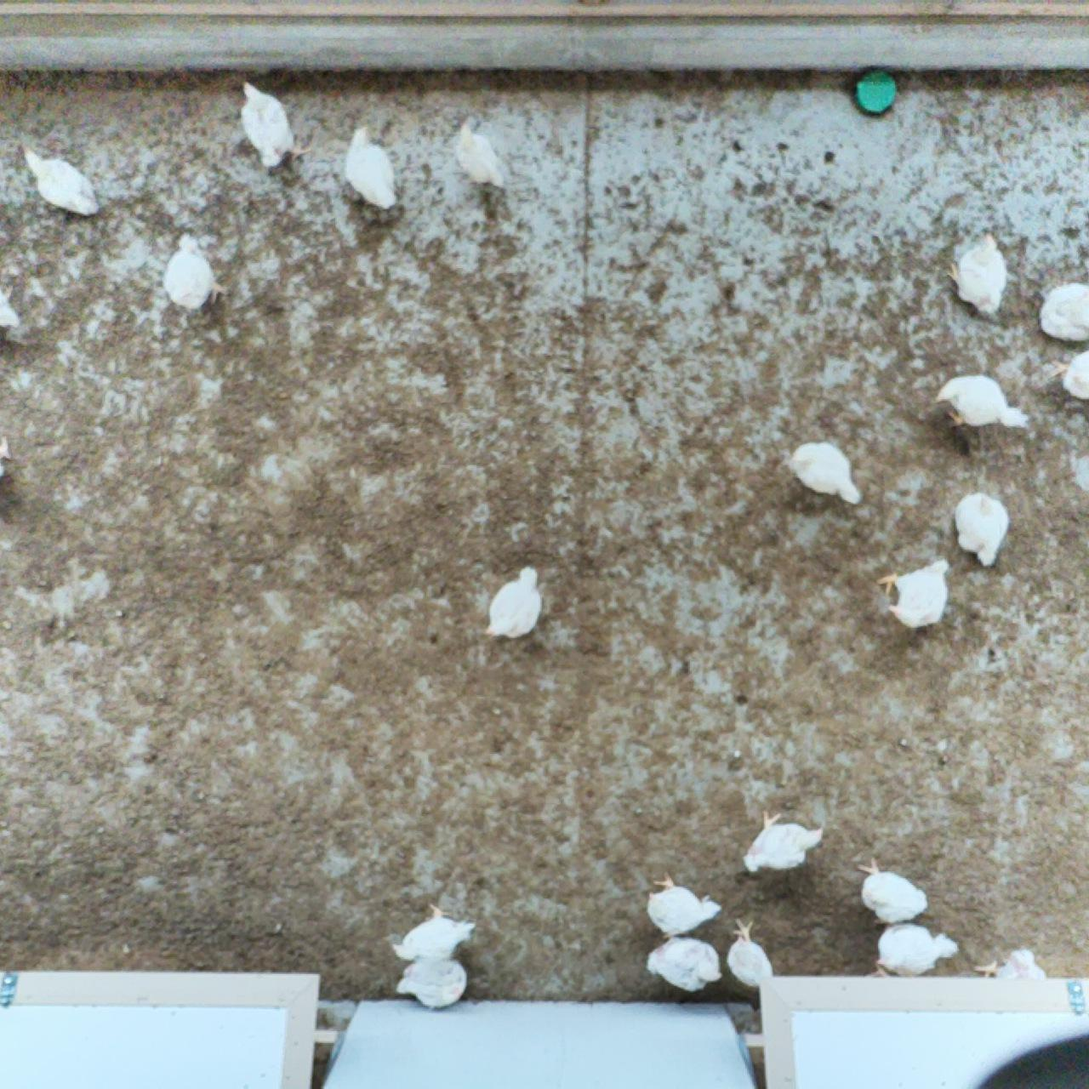chicken: (19, 138, 103, 223), (238, 78, 308, 171), (932, 368, 1029, 433), (158, 230, 233, 311), (873, 555, 954, 630), (390, 897, 480, 963), (744, 808, 830, 876), (852, 855, 934, 926), (786, 440, 867, 510), (479, 561, 549, 641), (343, 121, 403, 212), (645, 868, 724, 936), (870, 922, 961, 980), (946, 232, 1009, 315), (644, 931, 725, 995), (953, 486, 1013, 572), (393, 948, 471, 1013), (449, 116, 508, 195), (725, 913, 776, 995), (1035, 279, 1089, 342), (975, 947, 1049, 985), (1050, 346, 1089, 401), (0, 280, 21, 334)
